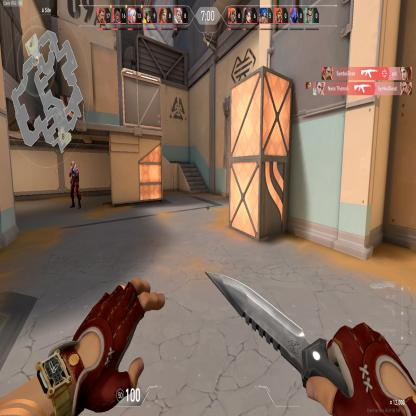enemy: (68, 159, 82, 210)
